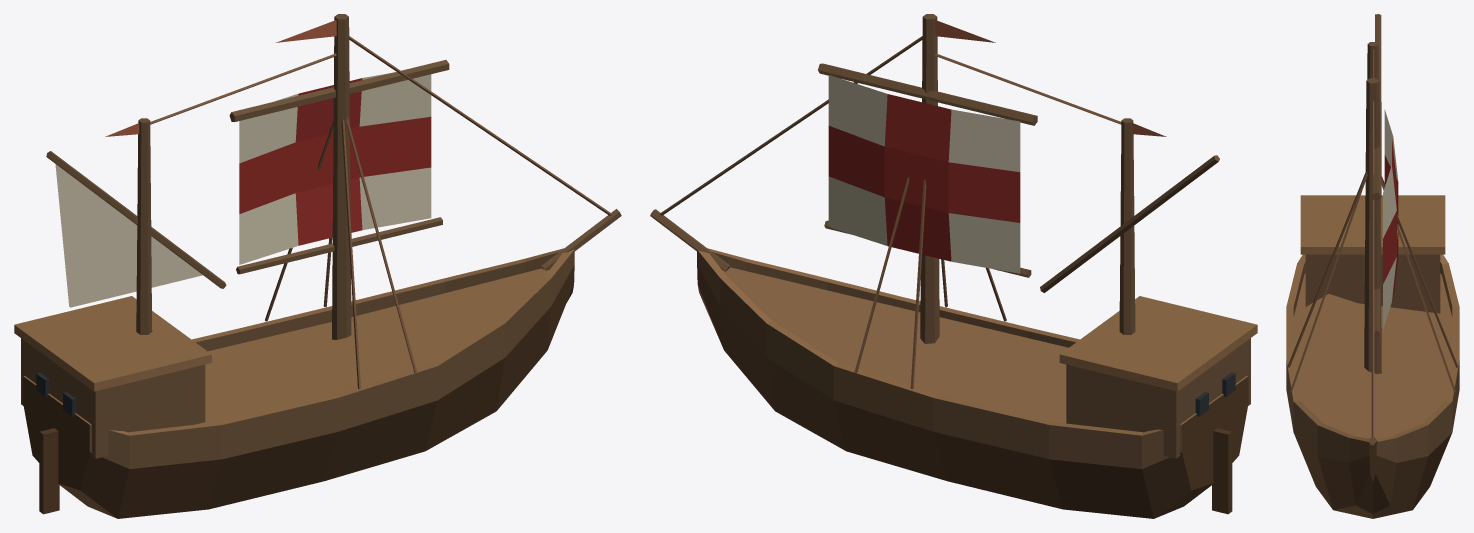
The model's file is caravel.glb.
The picture shows the model from 3 angles, left to right: view 1: azimuth 30°, elevation 25°; view 2: azimuth 150°, elevation 25°; view 3: azimuth 270°, elevation 25°; orthographic projection. The views are drawn at different scales.
Visible parts, largest first — view 1: caravel; view 2: caravel; view 3: caravel.
Boxes of the visible parts, x1,y1,x2,y2 form: caravel: (14, 14, 621, 518); caravel: (650, 14, 1257, 518); caravel: (1286, 14, 1459, 518).
Bounding box in the file's own units: 5.01 × 3.61 × 1.44.
